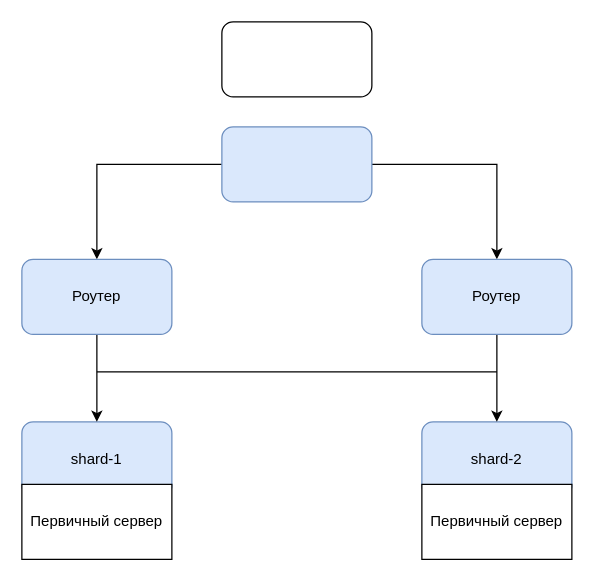
Image size: 594x581. Some labels were removed from this diagram. Here are the shapes that lost their labels. From the top down, the box of each, then its label:
(221, 21, 372, 97): pymongo-api
(221, 126, 372, 202): driver
